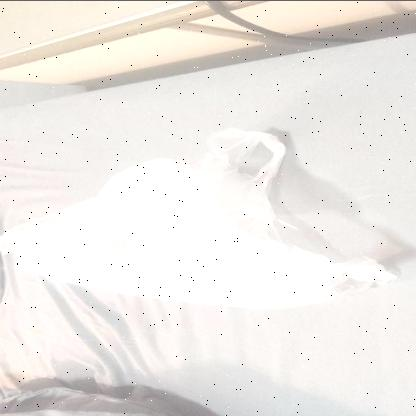Others: (0, 123, 402, 313)
